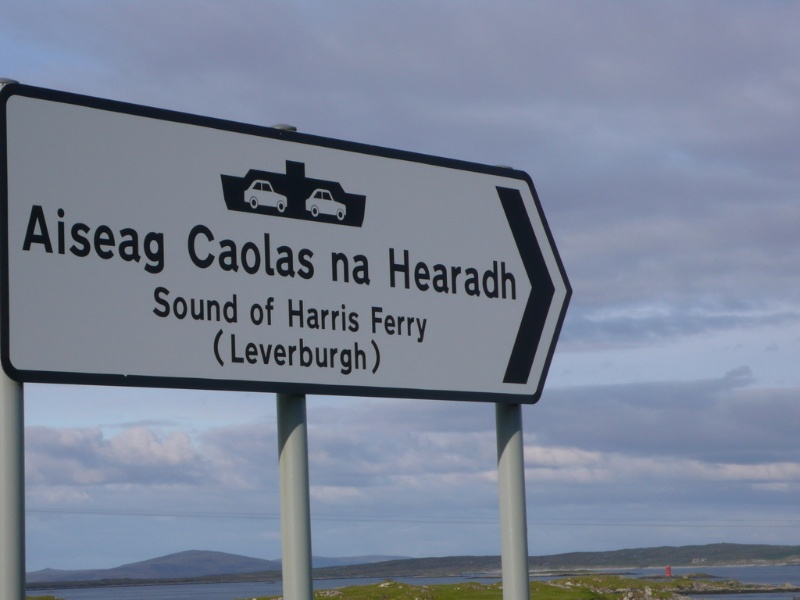sound_ferry: (8, 76, 557, 394)
